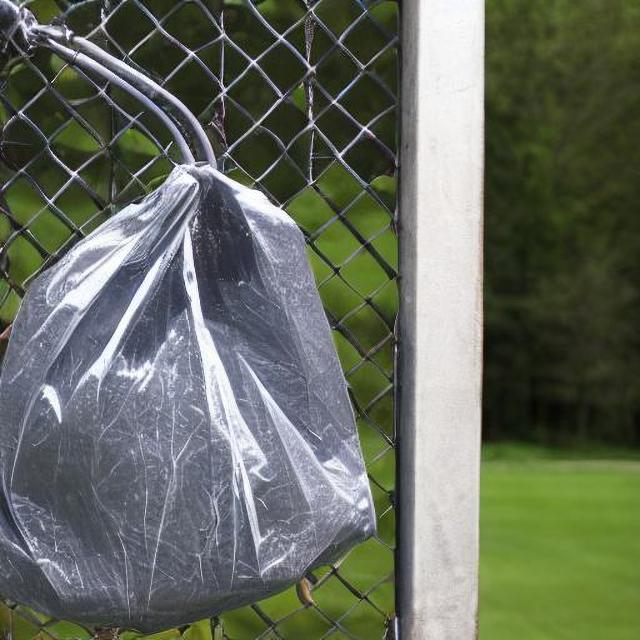plastic bag: (8, 161, 369, 615)
